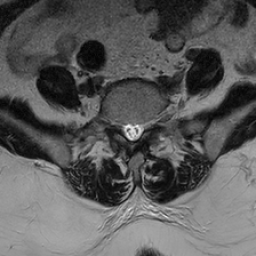CCS_normal: (129, 113, 136, 149)
LFS_normal: (144, 112, 153, 137)
LLS_normal: (136, 114, 144, 146)
RFS_stenosis: (113, 113, 121, 138)
RLS_normal: (121, 113, 129, 145)
